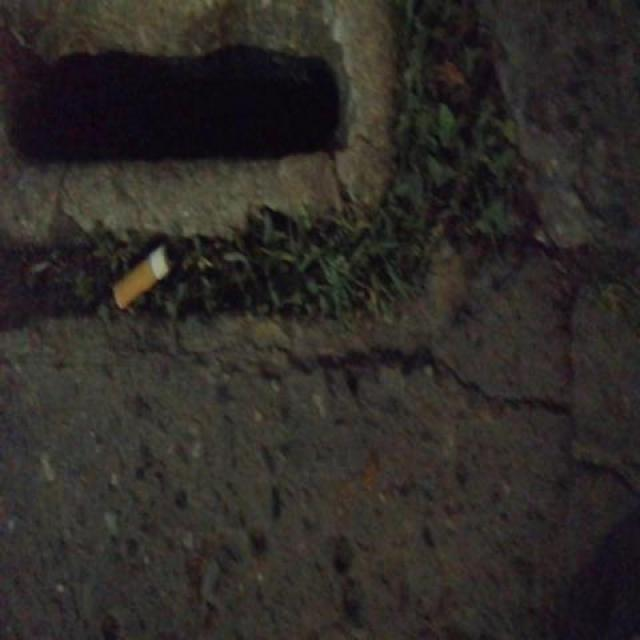non-organic waste: (107, 241, 178, 315)
